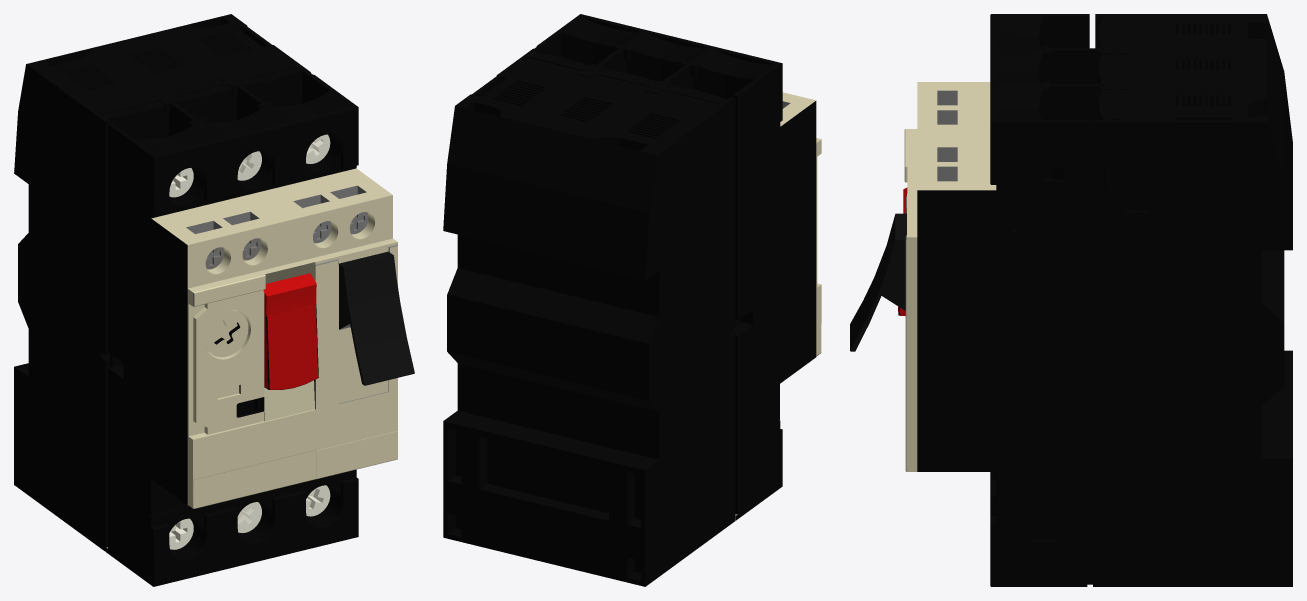
The model's file is motorBreakerSchneiderGv2me.glb.
The picture shows the model from 3 angles, left to right: view 1: azimuth 30°, elevation 25°; view 2: azimuth 150°, elevation 25°; view 3: azimuth 270°, elevation 25°; orthographic projection. The views are drawn at different scales.
Parts seen in each view (by area): view 1: cad_5_, cad_1_; view 2: cad_5_, cad_1_; view 3: cad_5_, cad_1_.
Boxes of the visible parts, x1,y1,x2,y2 form: cad_5_: (14,14,392,586); cad_1_: (187,238,414,509); cad_5_: (443,14,816,586); cad_1_: (816,138,821,356); cad_5_: (917,14,1292,586); cad_1_: (850,129,917,471).
Bounding box in the file's own units: 0.0445 × 0.0892 × 0.0769.
